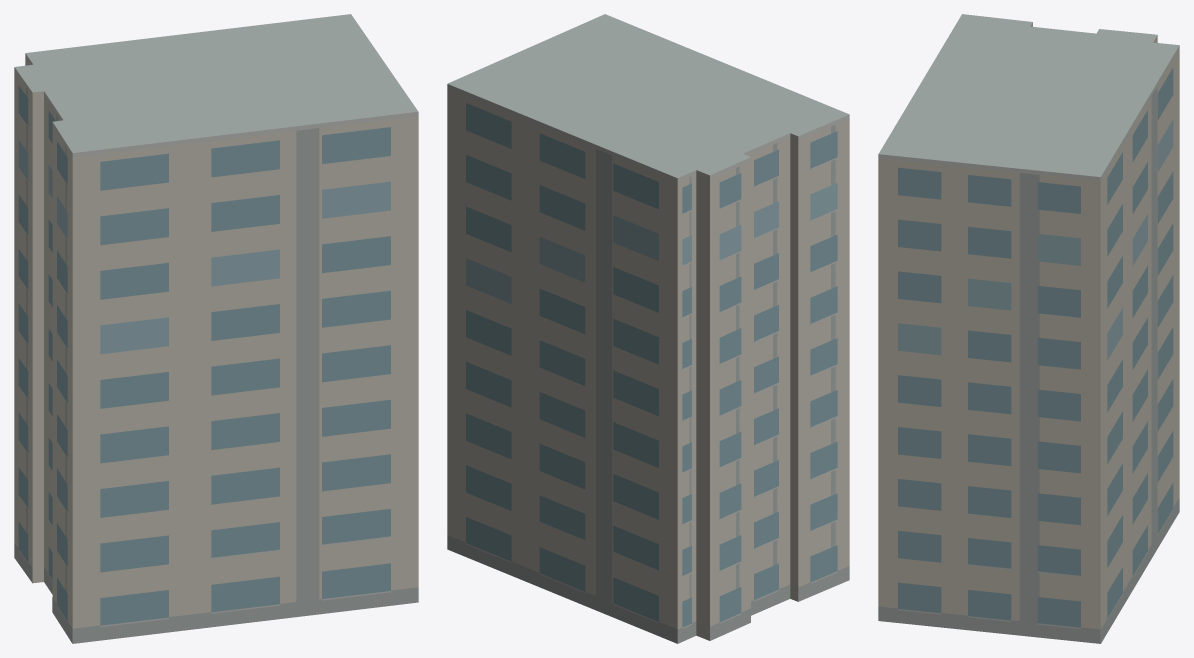
File: survey-upis-32868520.glb
3 views of the same model, side by side, from view 1: azimuth 30°, elevation 25°; view 2: azimuth 150°, elevation 25°; view 3: azimuth 270°, elevation 25° (orthographic). The views are drawn at different scales.
Visible parts, largest first — view 1: survey-upis-32868520.tmp; view 2: survey-upis-32868520.tmp; view 3: survey-upis-32868520.tmp.
Part boxes in pixels (left/top/right/bottom): survey-upis-32868520.tmp: left=14, top=14, right=418, bottom=643; survey-upis-32868520.tmp: left=447, top=14, right=849, bottom=643; survey-upis-32868520.tmp: left=878, top=14, right=1179, bottom=643.
Bounding box in the file's own units: 20.58 × 27.45 × 16.06.
